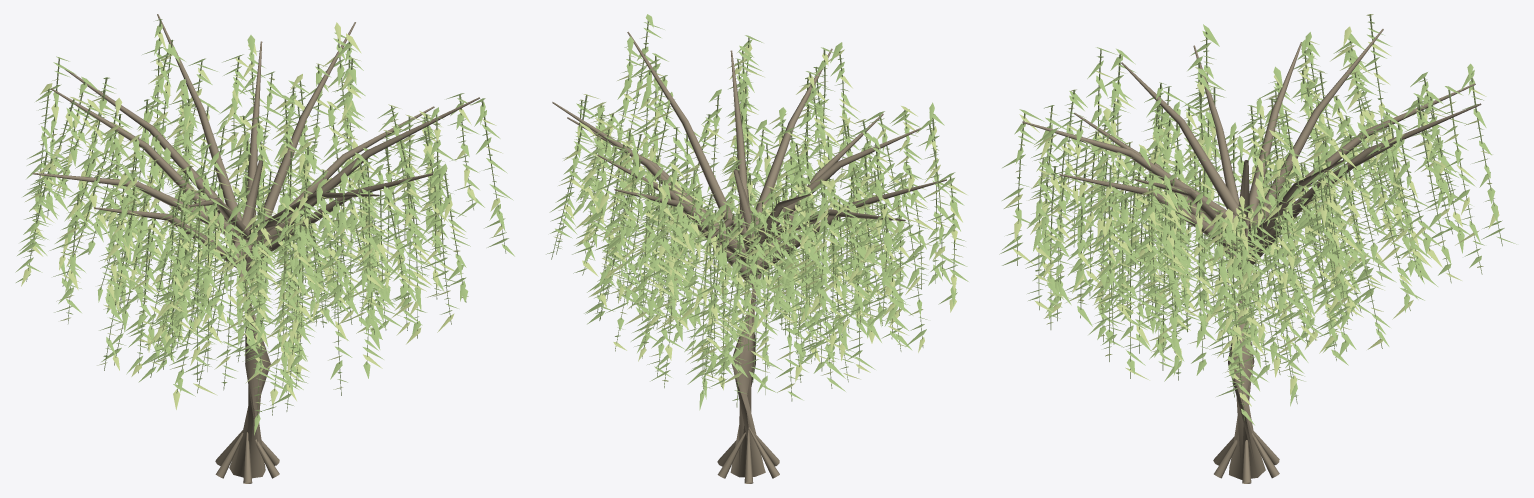
File: lake_willow_0.glb
3 renders of one model, left to right at view 1: azimuth 30°, elevation 25°; view 2: azimuth 150°, elevation 25°; view 3: azimuth 270°, elevation 25°, orthographic. The views are drawn at different scales.
Visible parts, largest first — view 1: lake_willow_0_LakeWillow, lake_willow_0_LakeWillowLight, lake_willow_0_LakeBark, lake_willow_0_LakeReed; view 2: lake_willow_0_LakeWillow, lake_willow_0_LakeWillowLight, lake_willow_0_LakeBark, lake_willow_0_LakeReed; view 3: lake_willow_0_LakeWillow, lake_willow_0_LakeWillowLight, lake_willow_0_LakeBark, lake_willow_0_LakeReed.
Boxes of the visible parts, box(x1,y1,x2,y2) form: lake_willow_0_LakeWillow: box(15, 19, 514, 435); lake_willow_0_LakeWillowLight: box(21, 22, 503, 409); lake_willow_0_LakeBark: box(32, 14, 479, 483); lake_willow_0_LakeReed: box(26, 19, 506, 417); lake_willow_0_LakeWillow: box(546, 14, 968, 410); lake_willow_0_LakeWillowLight: box(554, 36, 966, 392); lake_willow_0_LakeBark: box(552, 31, 946, 483); lake_willow_0_LakeReed: box(551, 21, 954, 407); lake_willow_0_LakeWillow: box(999, 21, 1516, 425); lake_willow_0_LakeWillowLight: box(1004, 14, 1499, 406); lake_willow_0_LakeBark: box(1022, 29, 1481, 483); lake_willow_0_LakeReed: box(1017, 14, 1502, 420).
Bounding box in the file's own units: 7.48 × 6.84 × 8.07.
